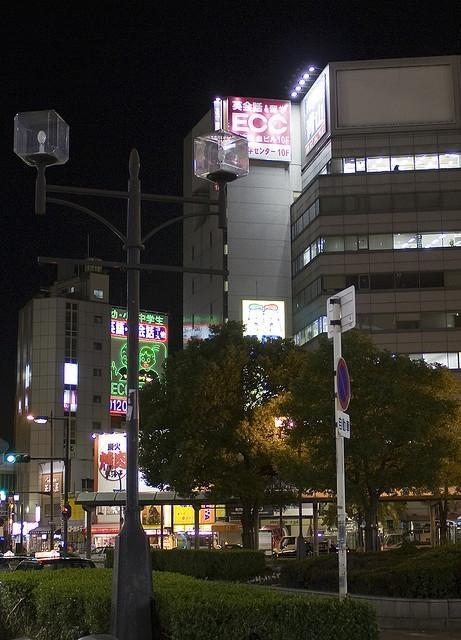car: (51, 556, 98, 570), (306, 542, 351, 556), (382, 532, 403, 552), (90, 546, 114, 562), (414, 528, 430, 544), (220, 546, 243, 550), (447, 521, 458, 527), (178, 533, 188, 538), (182, 546, 186, 550)
truck: (274, 536, 298, 555)
